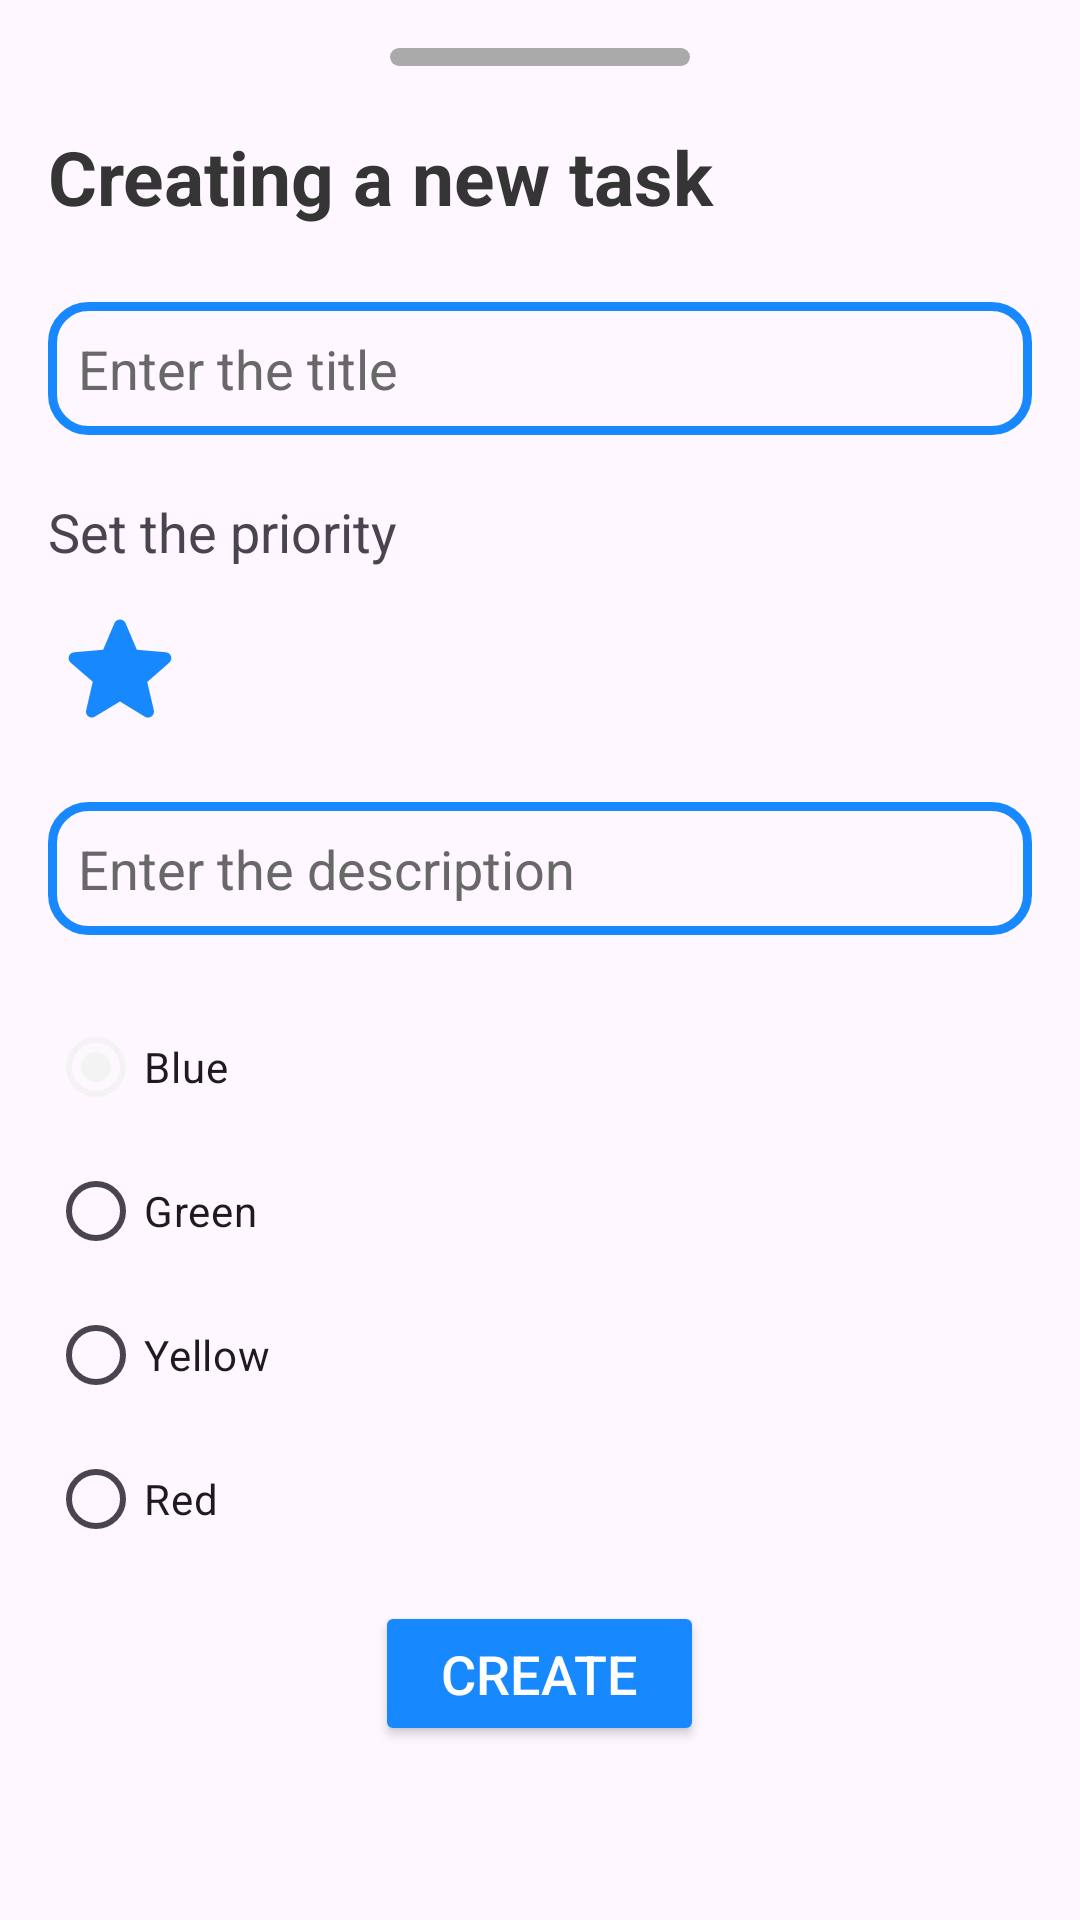

Screen size 1080 x 1920. Icon name, then its center in pixels as (x,y):
star: (120,668)
